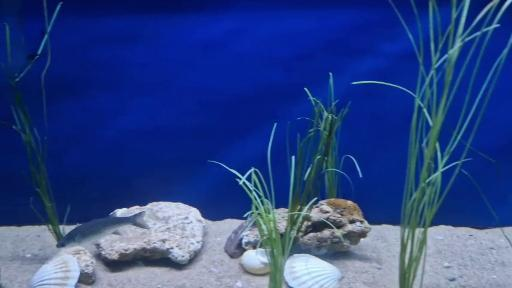Fish: (57, 212, 149, 247)
